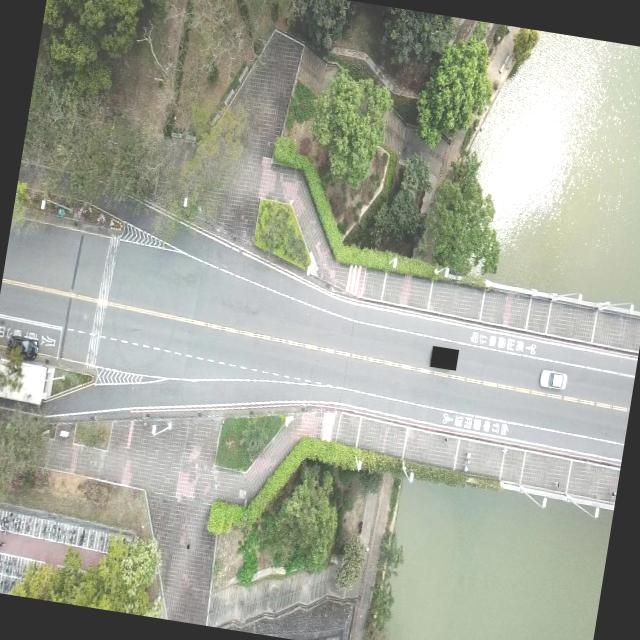car: (4, 332, 38, 360), (538, 367, 568, 392)
